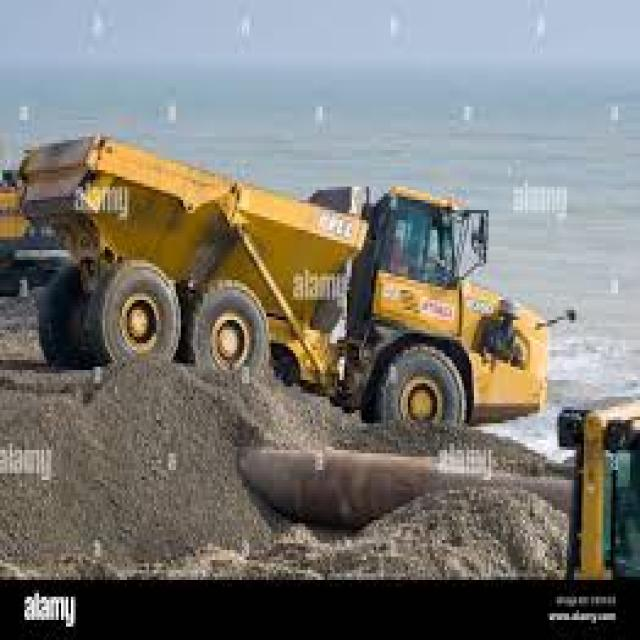dump_truck: (5, 67, 569, 483)
